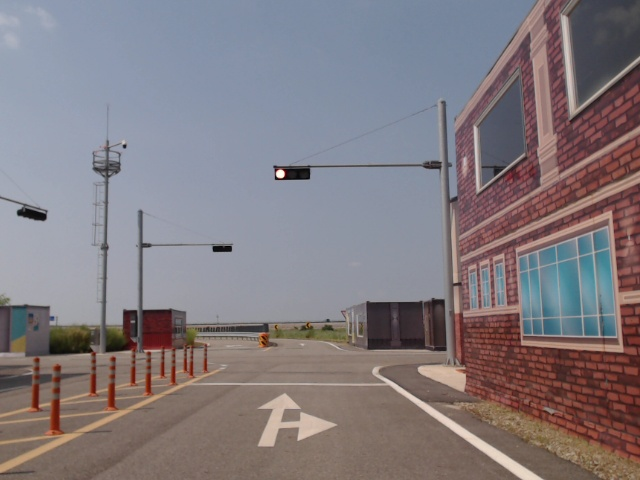red_3: (274, 167, 310, 180)
